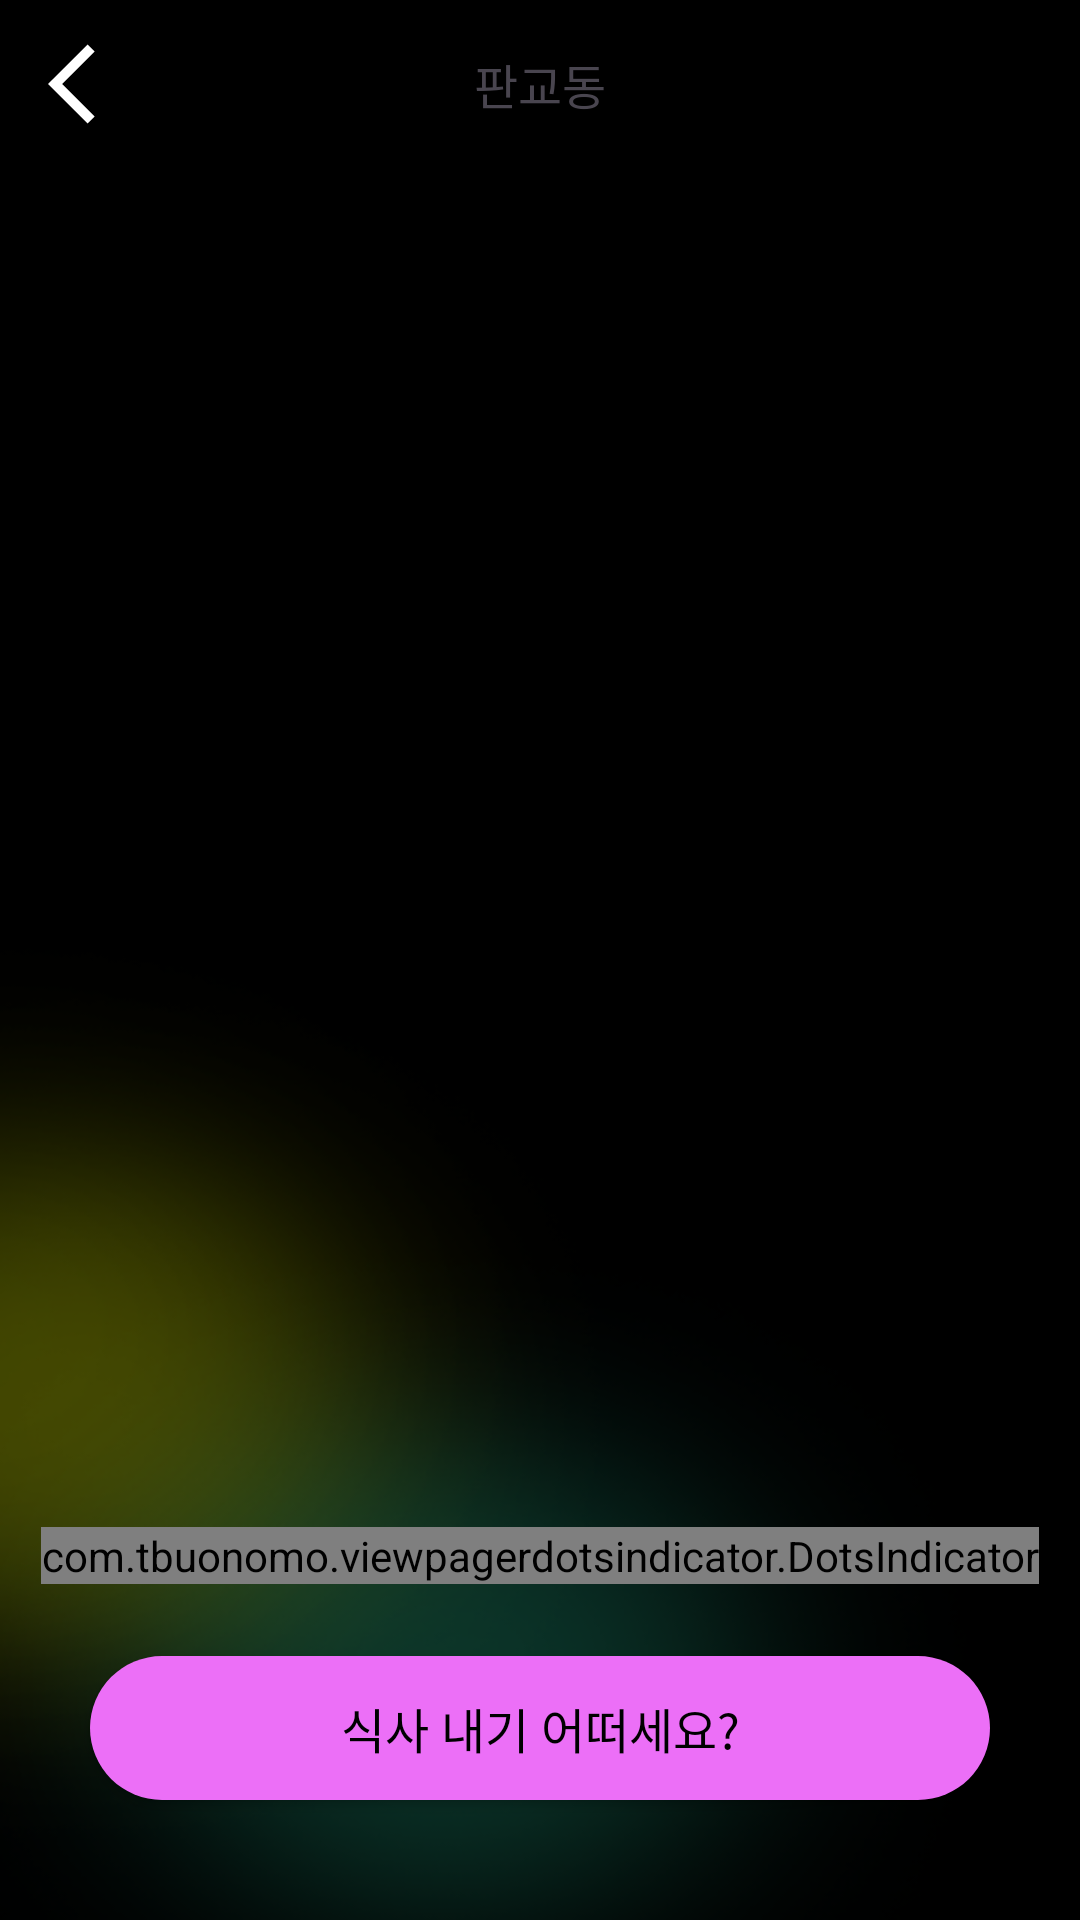

Point at icon controls on the screen. Image size 1080w x 1920h, points as [x,y].
arrow back: [71,84]
